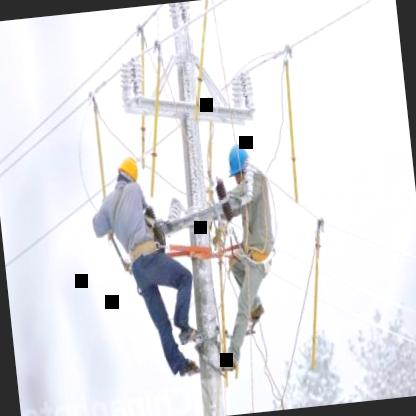helmet: (222, 135, 255, 189), (114, 152, 142, 194)
